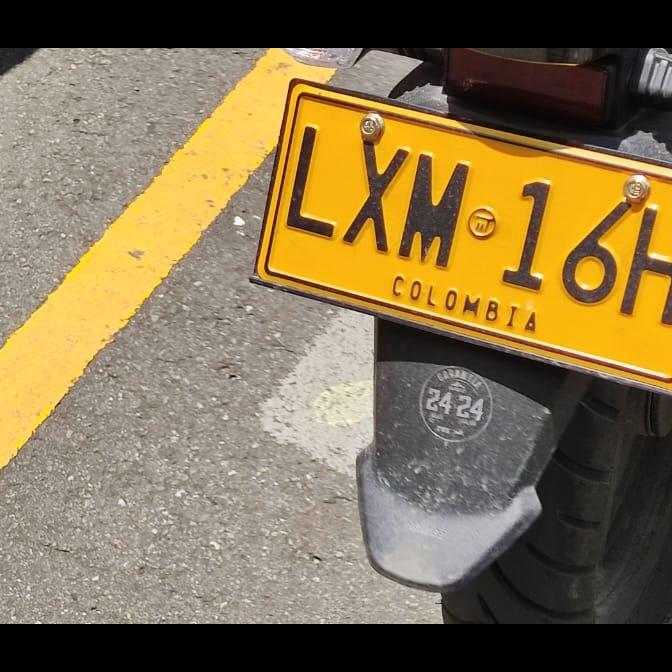plates: (253, 83, 672, 391)
